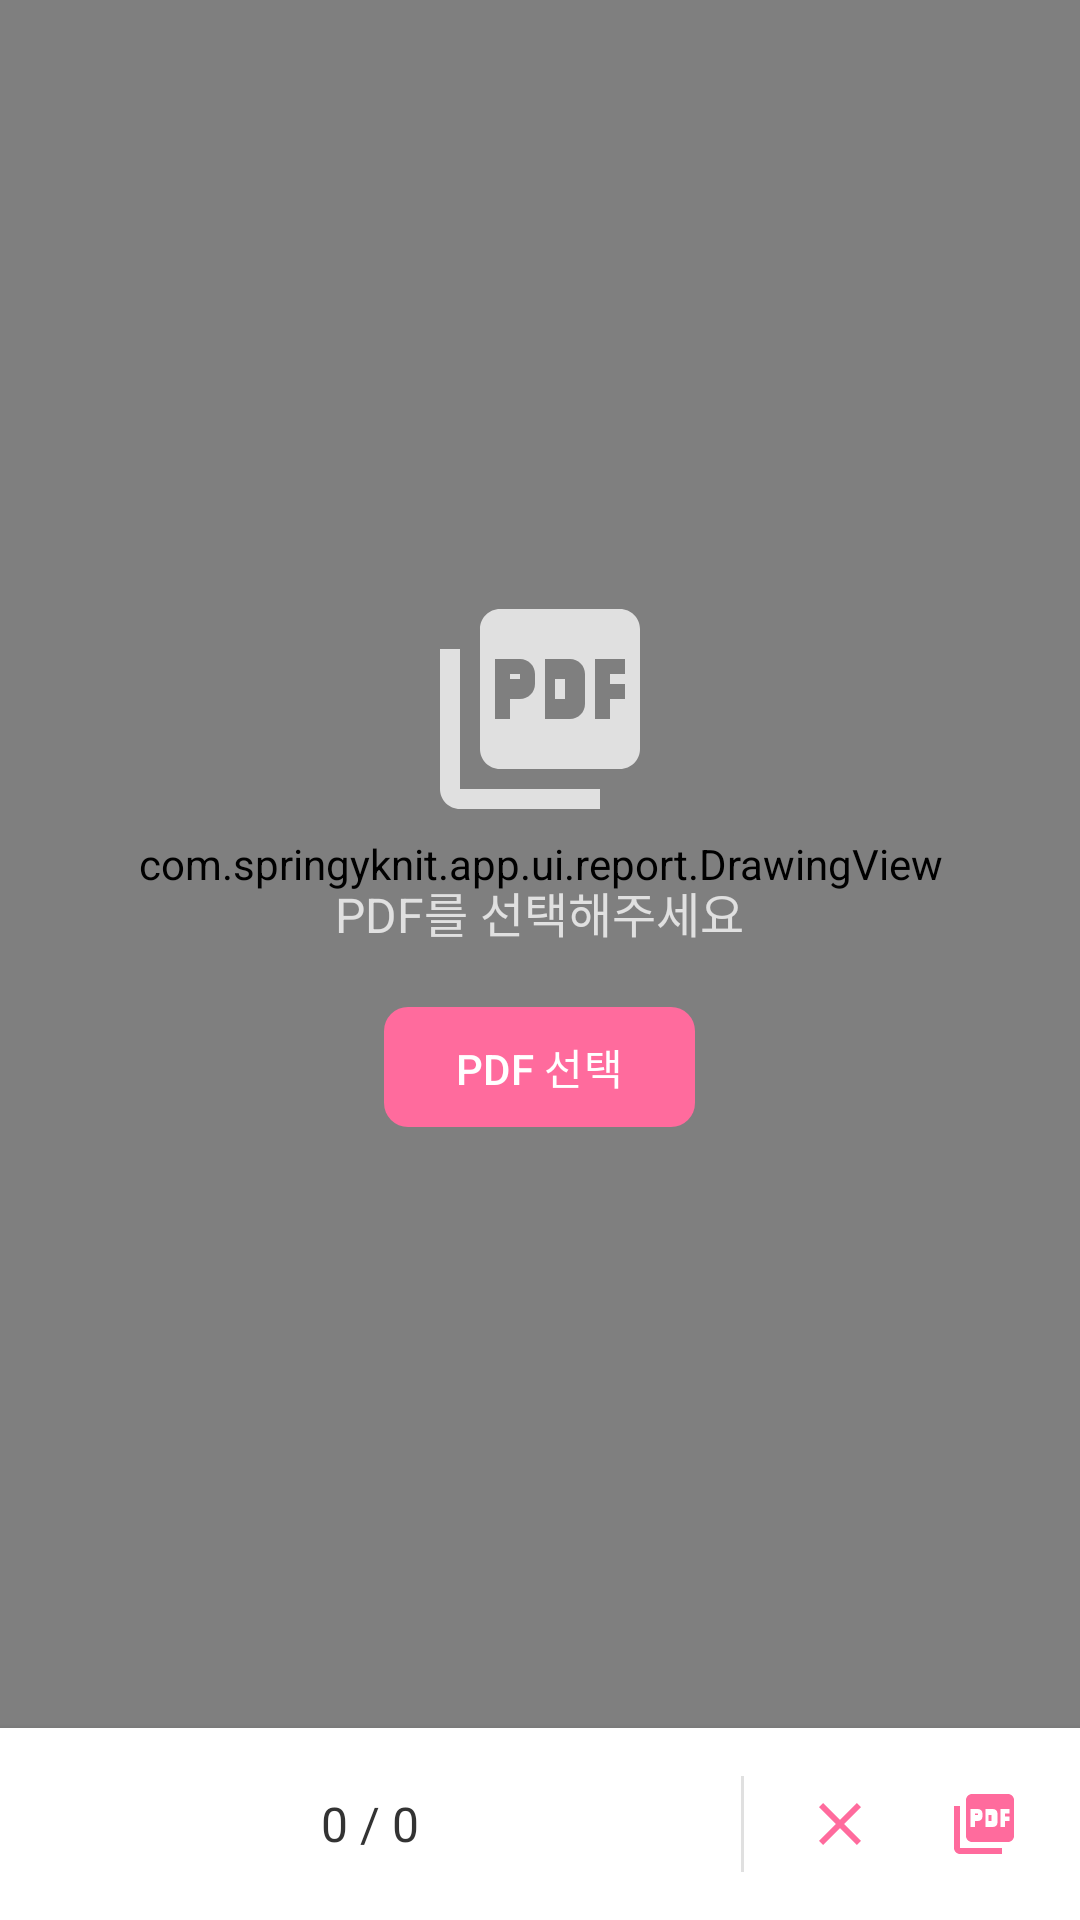

Screen size 1080 × 1920. Icon name, then its center in pixels as point (x, y):
Change PDF: point (984, 1824)
Clear: point (840, 1824)
